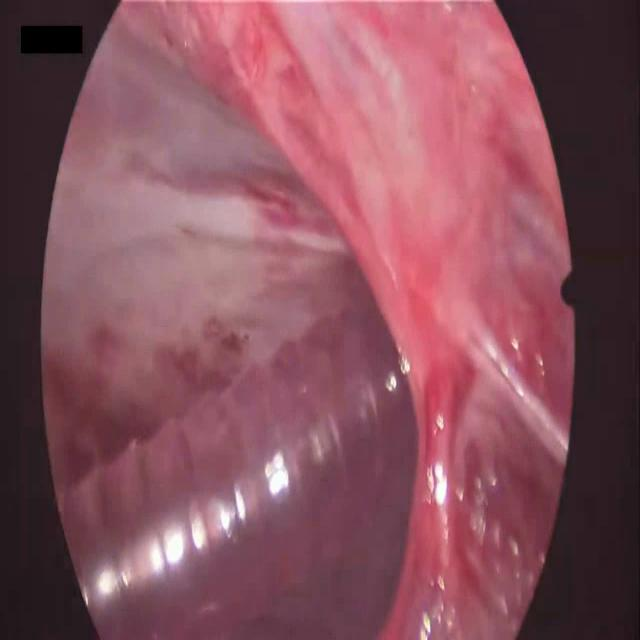surgical-area: (40, 1, 576, 639)
